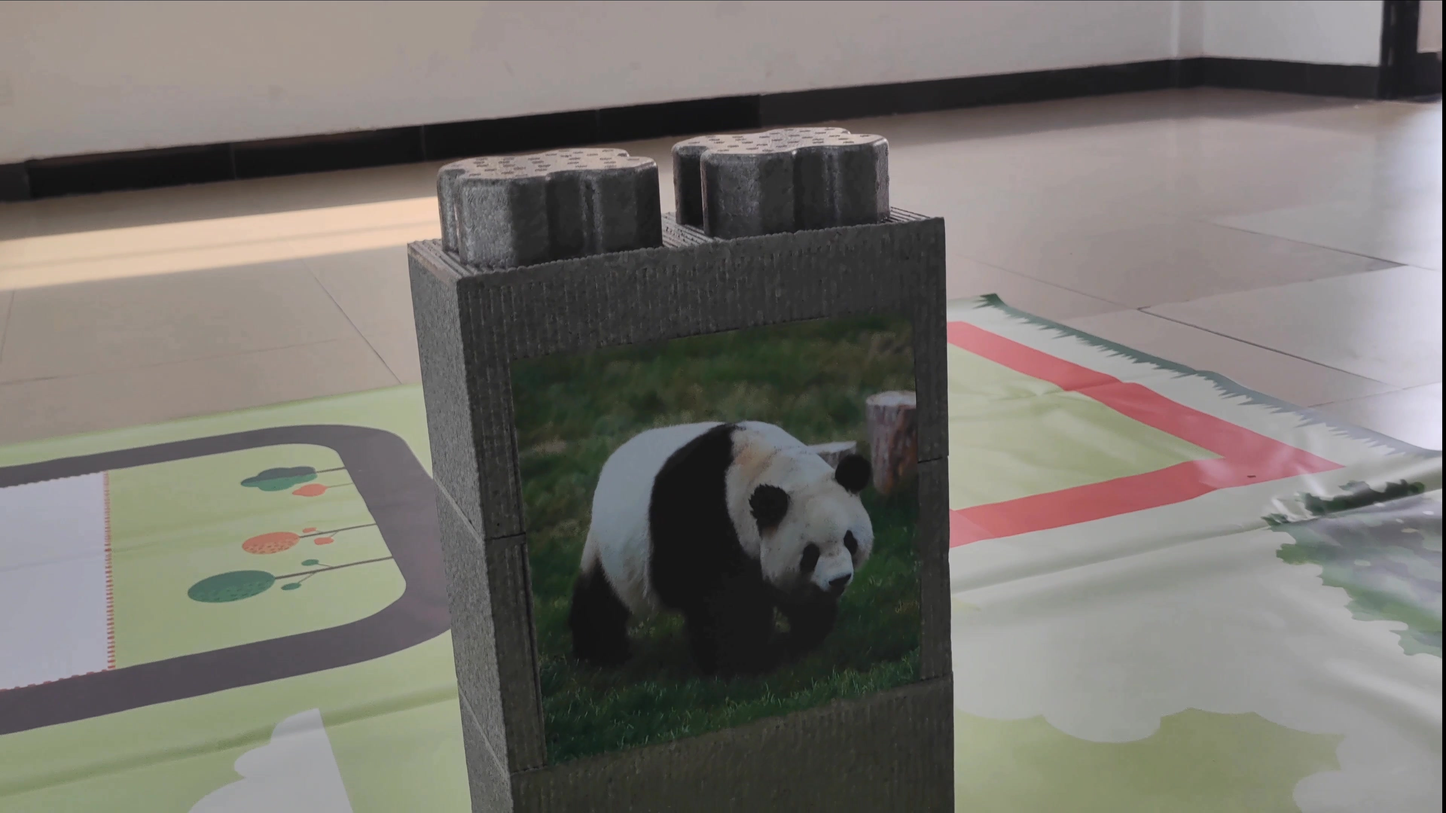panda: (538, 404, 931, 677)
